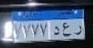7: (13, 23, 22, 39), (23, 22, 31, 38), (40, 22, 47, 38), (31, 24, 39, 38)
ain: (62, 21, 71, 38)
daal: (53, 25, 60, 37)
raa: (74, 24, 82, 38)
